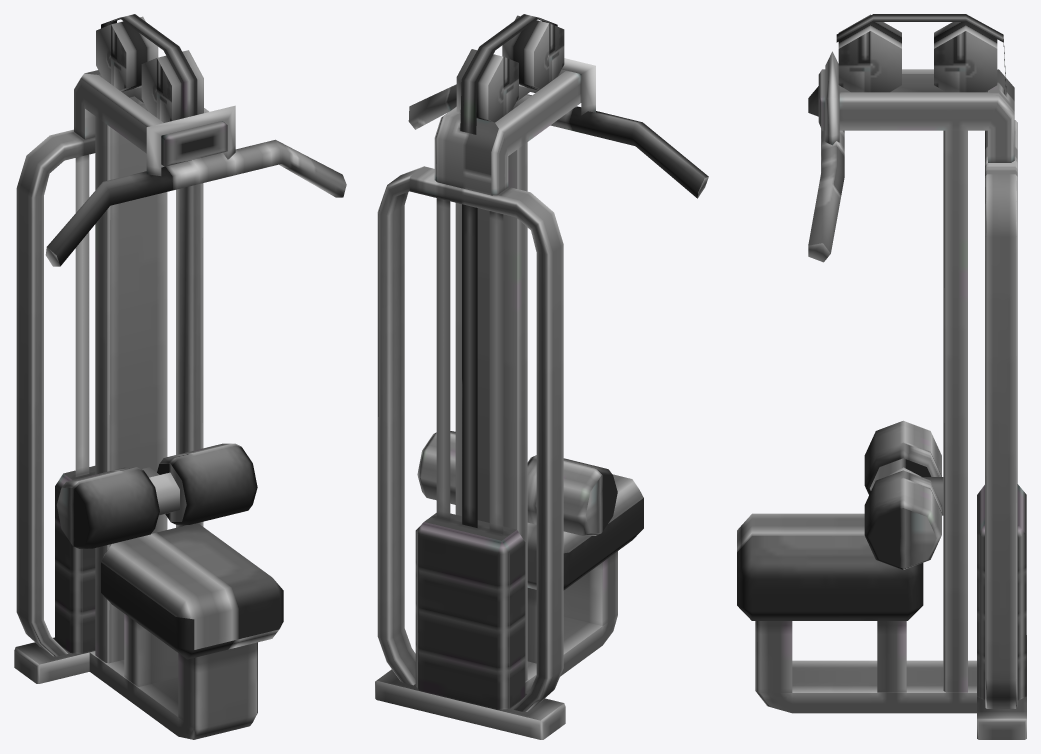
The model's file is int_fns_lat.dae.
3 views of the same model, side by side, from view 1: azimuth 30°, elevation 25°; view 2: azimuth 150°, elevation 25°; view 3: azimuth 270°, elevation 25° (orthographic). The views are drawn at different scales.
Visible parts, largest first — view 1: int_fns_lat; view 2: int_fns_lat; view 3: int_fns_lat.
Part boxes in pixels (x1,y1,x2,y2): int_fns_lat: (14,14,346,739); int_fns_lat: (375,14,708,739); int_fns_lat: (737,14,1026,739).
Size of the model in its own units: 31.94 by 67.21 by 26.01.
1 material, 1 textured.
